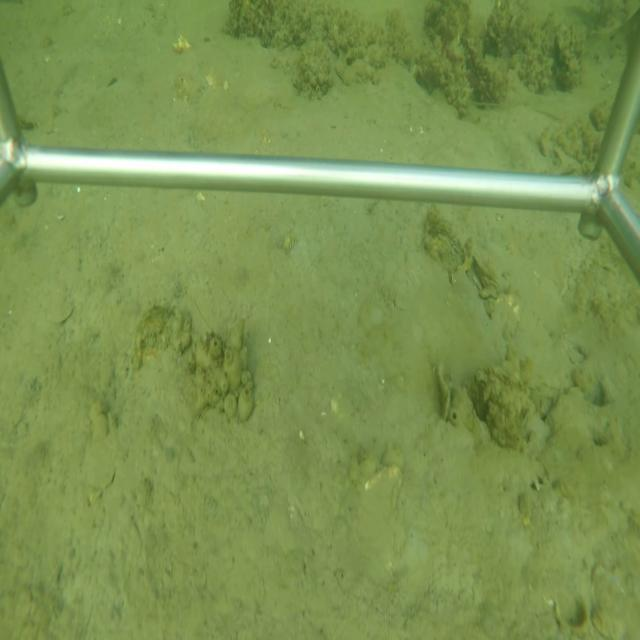Oyster-Closed: (433, 361, 455, 428)
